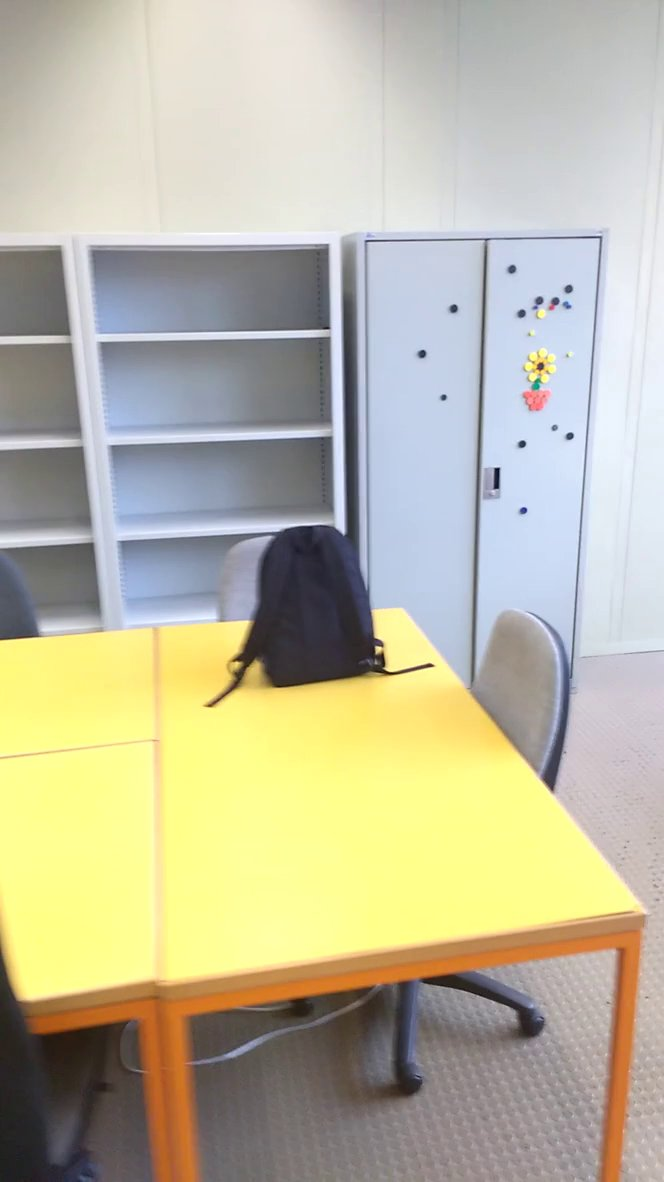bag: (205, 522, 444, 711)
chair: (463, 585, 588, 809)
